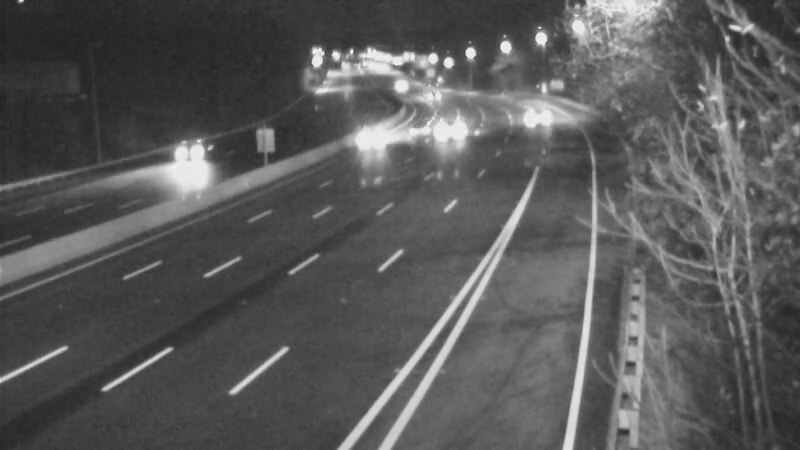vehicle: (139, 116, 219, 196), (371, 58, 421, 108), (406, 66, 456, 116), (502, 88, 552, 138), (426, 106, 476, 156), (391, 106, 441, 156), (355, 111, 405, 161)
